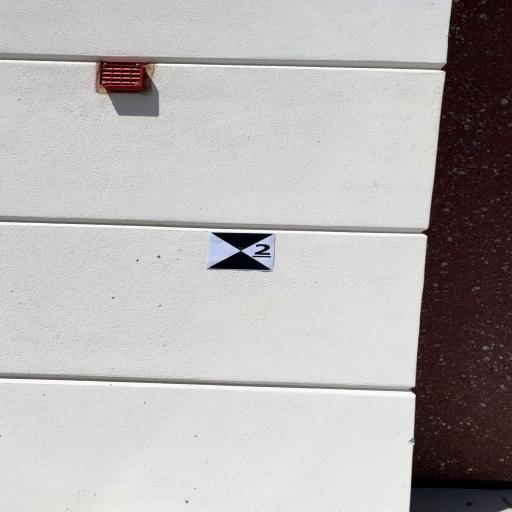target2: (206, 233, 276, 270)
